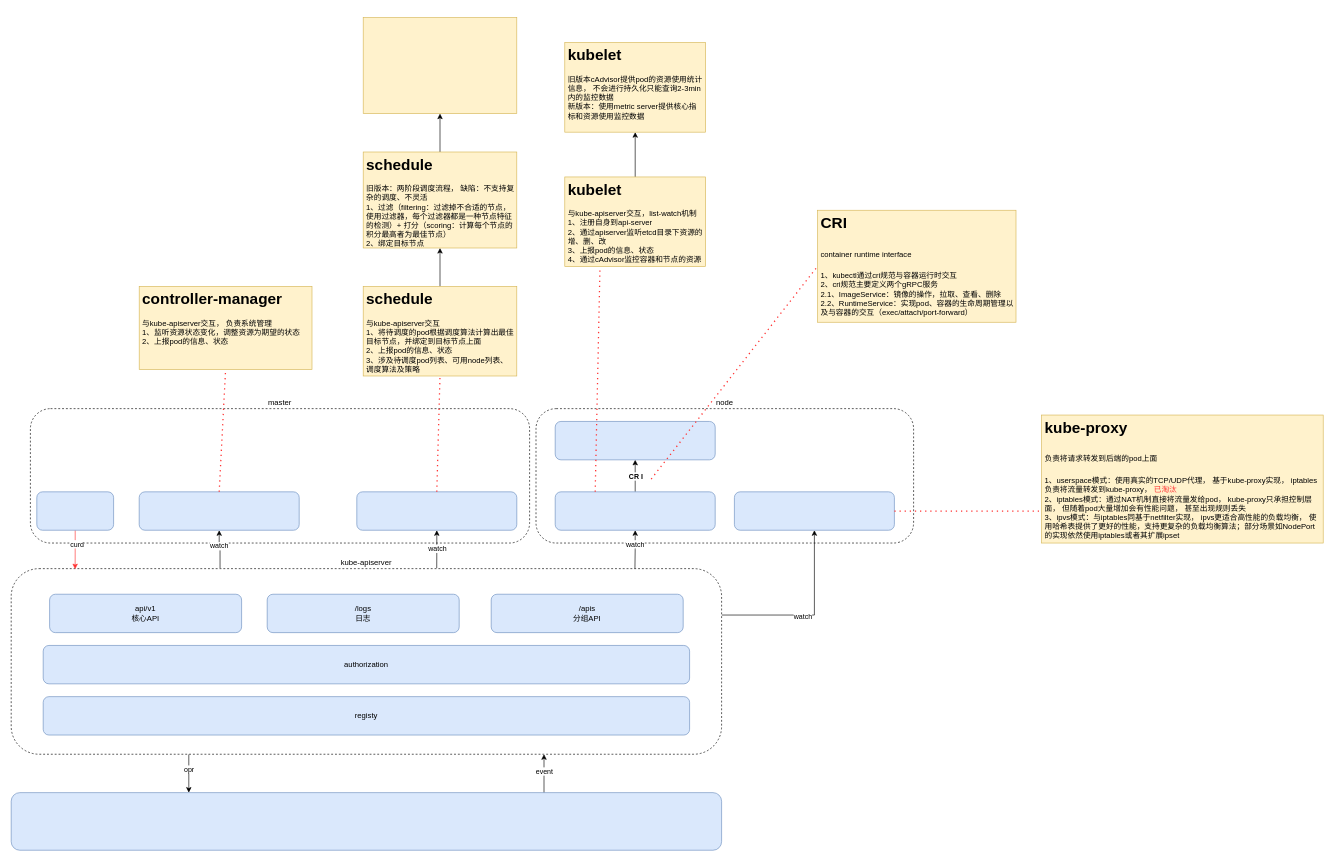
Image size: 1334x861. Some labels were removed from this diagram. Here are the shapes that lost their labels. From the top down, the centre of each, then its label:
At [440,65]: "schedule scheduler framework 1、支持以插件的形式扩展 2、增加扩展点：基于调度Stage的扩展点".
At [635,440]: "container".
At [75,510]: "kubectl".
At [219,510]: "kube-controller-manager".
At [436,510]: "kube-scheduler".
At [635,510]: "kubelet".
At [814,510]: "kube-proxy".
At [366,821]: "etcd".
